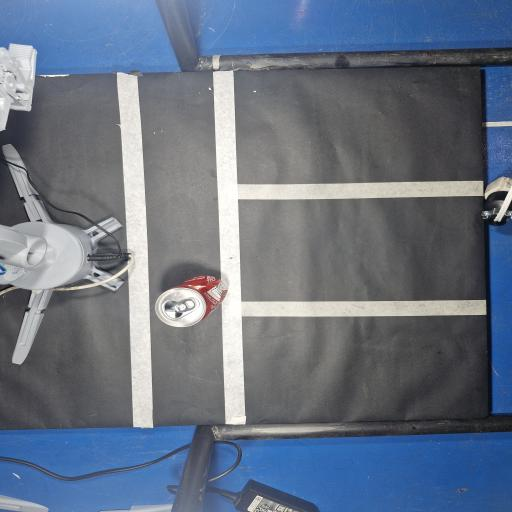lata_defectuoso: (155, 276, 226, 327)
